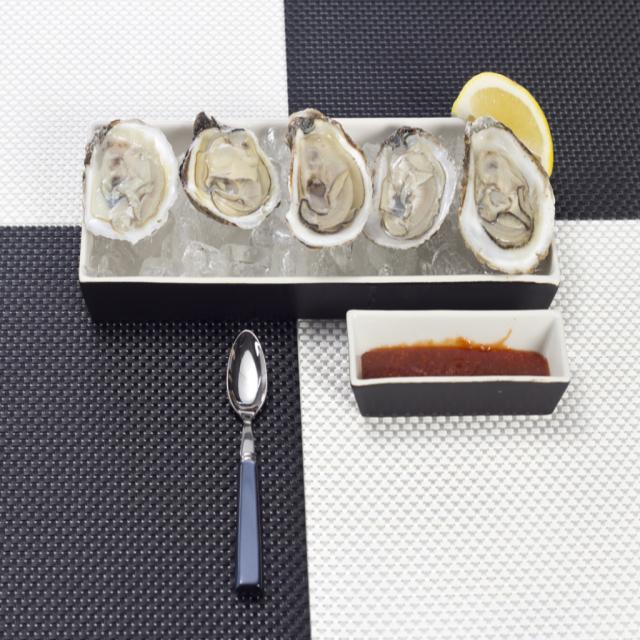Lemon: (449, 67, 561, 176)
